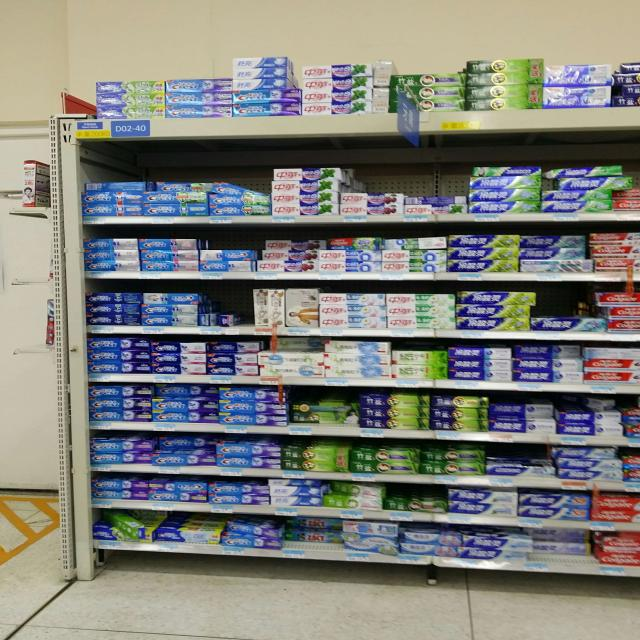unorganised: (455, 288, 538, 318), (437, 528, 536, 553), (532, 528, 598, 560), (257, 237, 320, 270), (343, 521, 401, 556), (540, 167, 636, 188), (520, 233, 591, 261), (283, 517, 343, 549), (225, 518, 280, 543), (513, 342, 583, 361), (490, 400, 554, 420), (156, 435, 218, 454), (325, 481, 385, 500), (383, 235, 449, 251), (83, 179, 148, 195), (153, 383, 218, 398), (267, 336, 324, 352), (472, 164, 542, 177), (156, 179, 228, 191), (567, 396, 620, 412), (323, 237, 380, 251), (583, 345, 640, 359), (207, 338, 263, 352), (200, 310, 237, 328)
